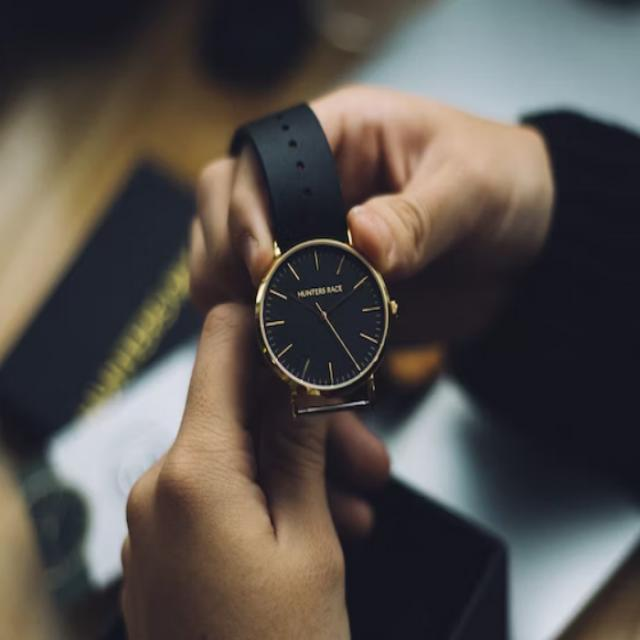Watch: (240, 100, 398, 420)
